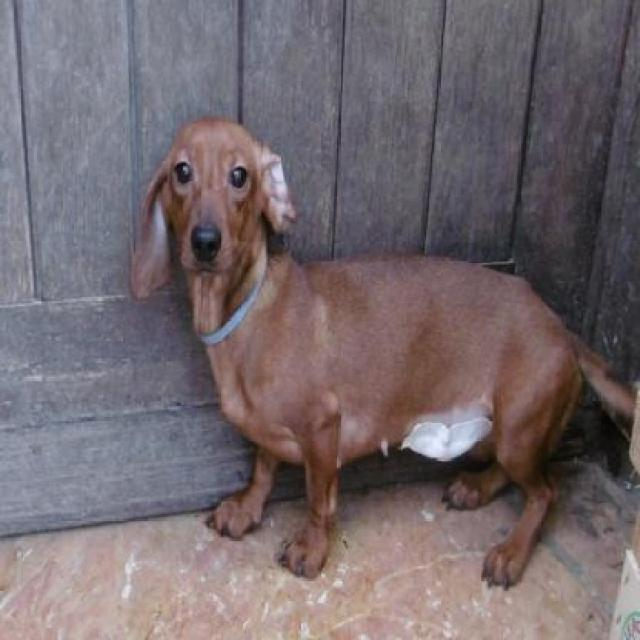Dog: (128, 117, 623, 595)
